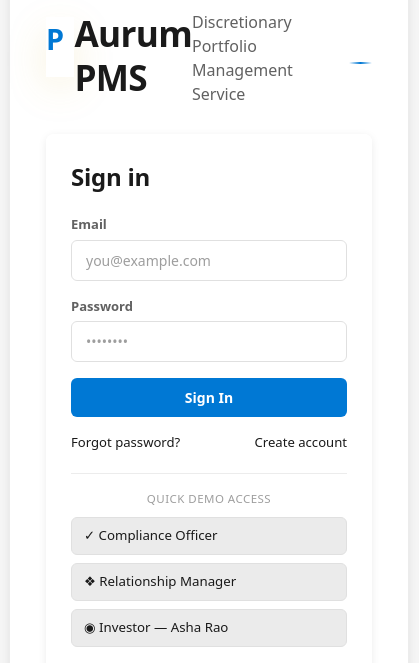
Test: LoginPage › switches to Forgot Password view
Click the button "Forgot password?" at (126, 443), box 71,433 -> 180,453
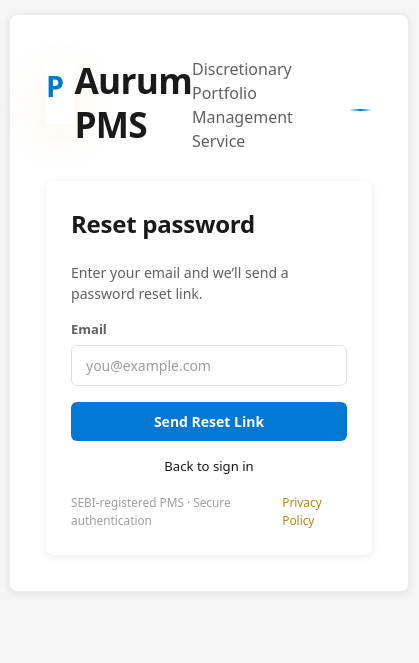
Result: the heading "Reset password" is shown at 71,207 -> 255,240
Result: the button "Send Reset Link" is shown at 71,402 -> 347,441
